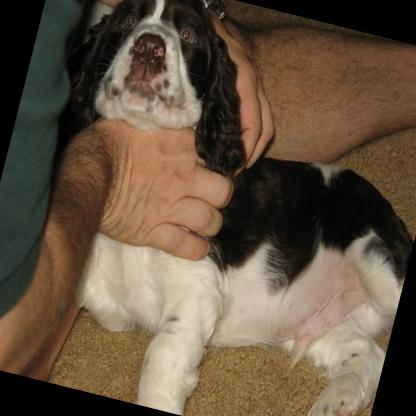English_springer: (4, 0, 416, 416)
